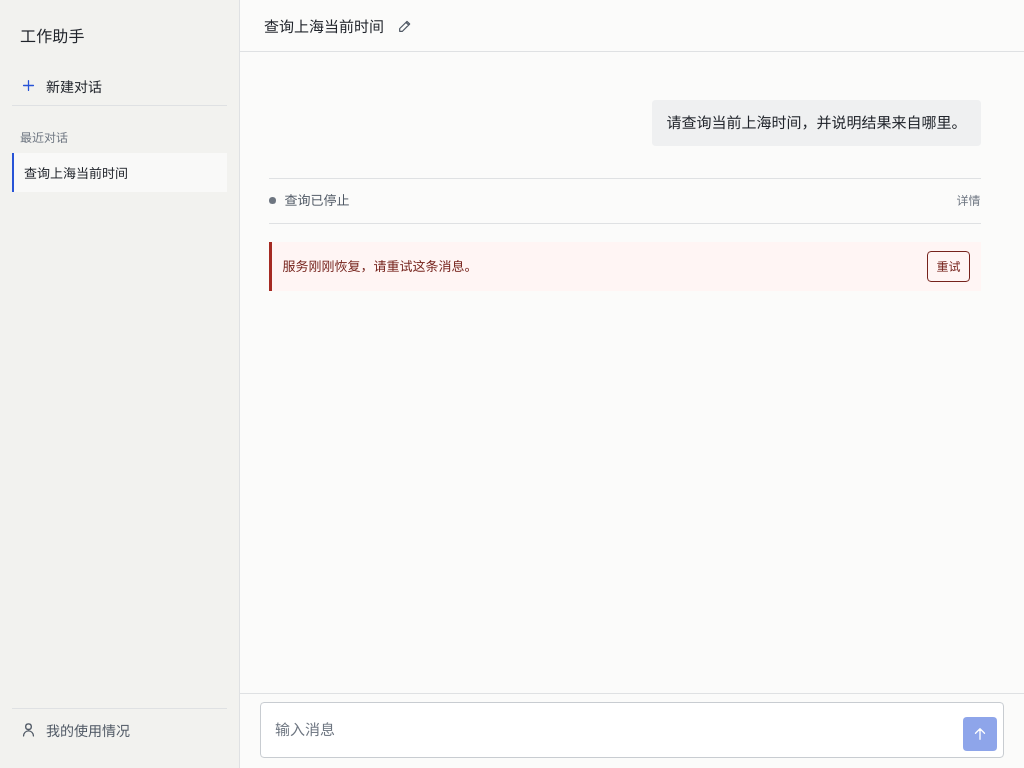
Test: employee chat vertical slice › retries service_restarted as a new run and preserves the failed turn
This screenshot has width=1024, height=768.
Expected: the text "服务刚刚恢复，请重试这条消息。" is shown, left=282, top=256, right=478, bottom=276
Click the button "重试" at point(948, 266), box left=928, top=250, right=970, bottom=282
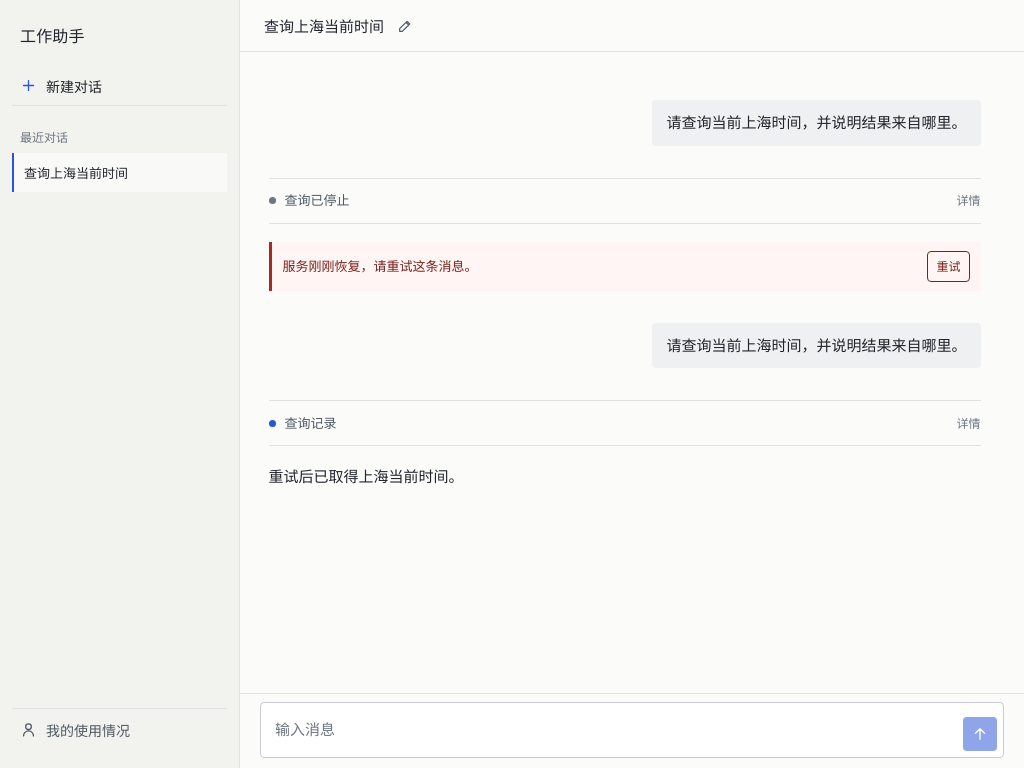
Expected: the text "服务刚刚恢复，请重试这条消息。" is shown, left=282, top=256, right=478, bottom=276
Result: the text "重试后已取得上海当前时间。" is shown at left=268, top=467, right=464, bottom=486
